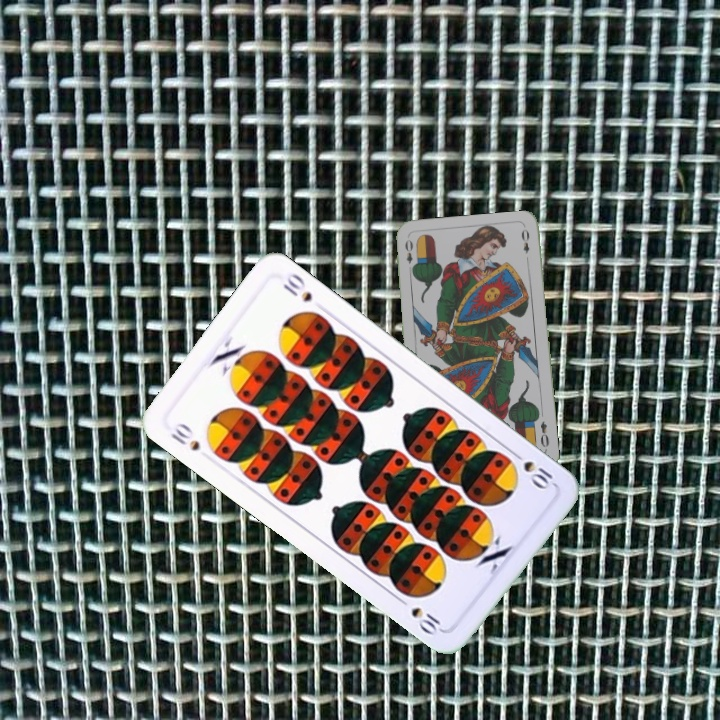EO: (401, 236, 418, 275), (536, 417, 552, 450)
S10: (507, 446, 556, 493), (166, 418, 203, 454)
